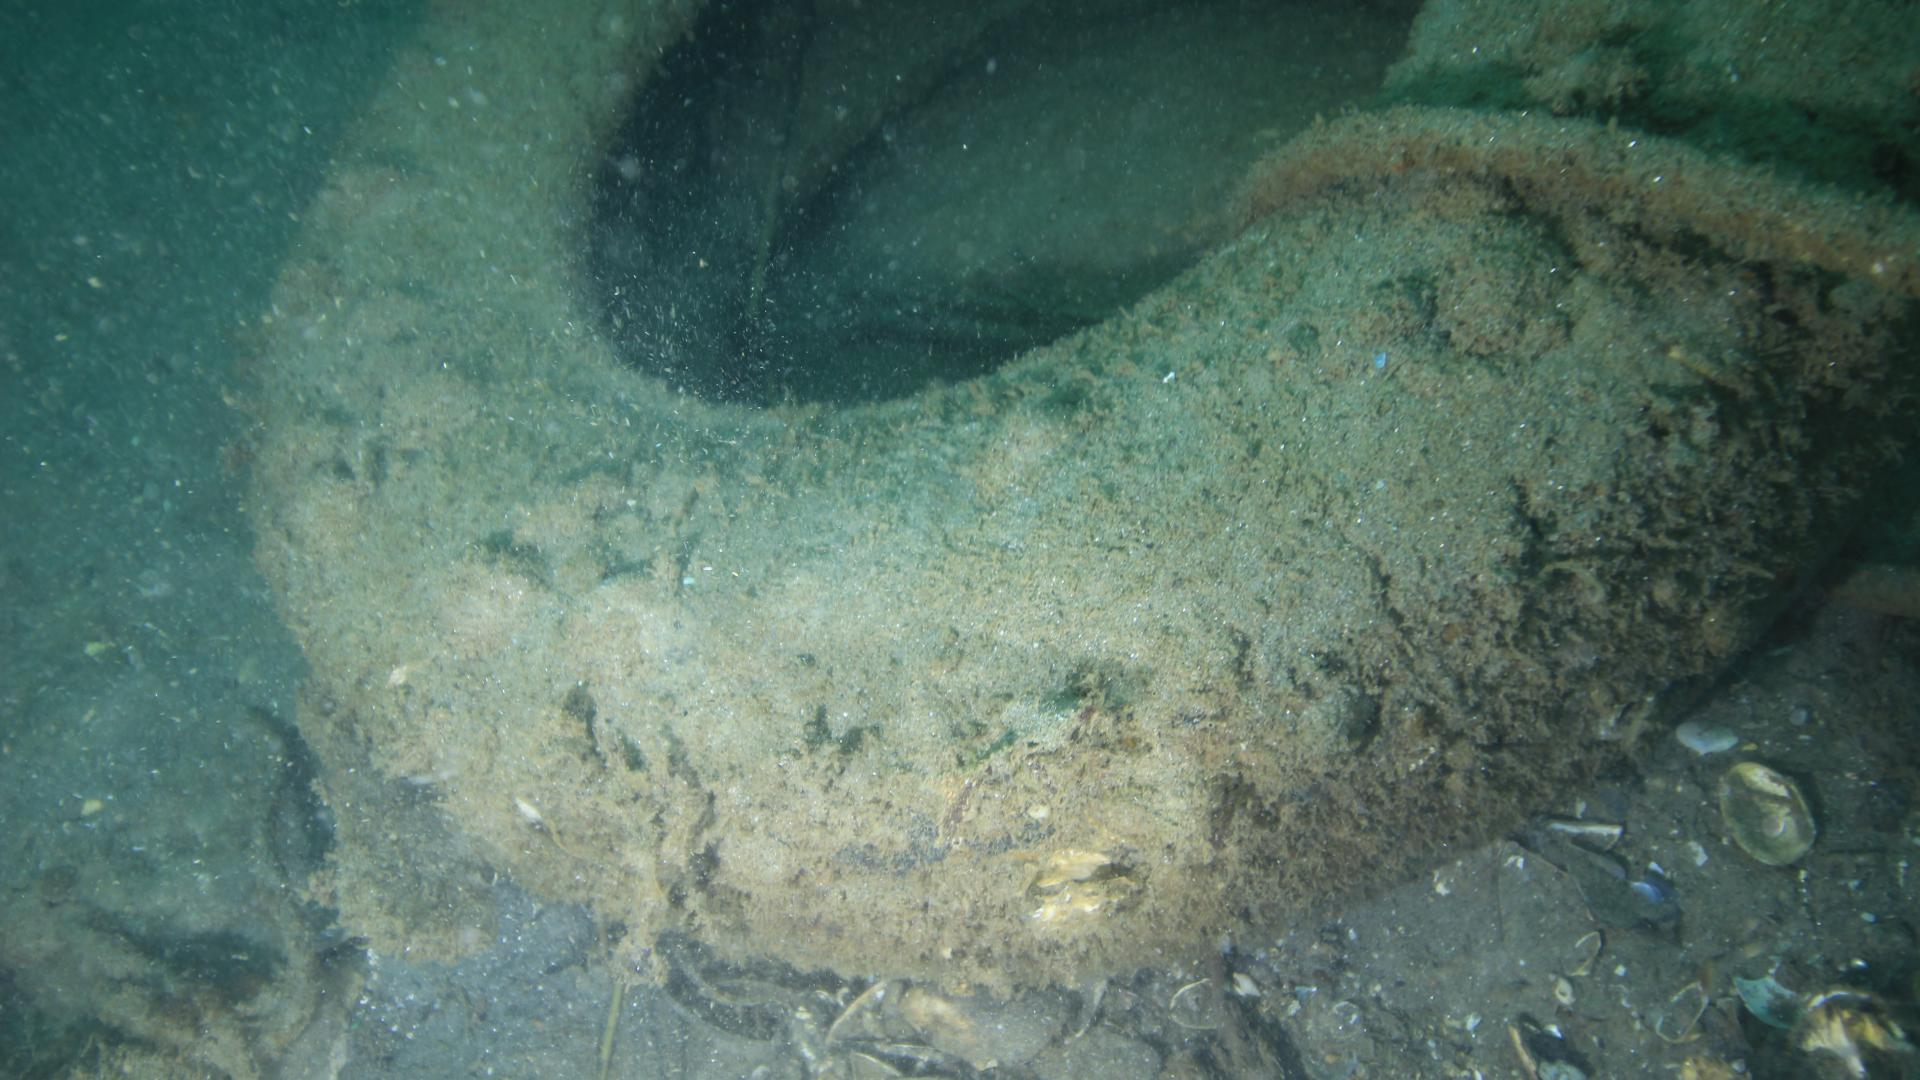tire: (247, 0, 1920, 988)
